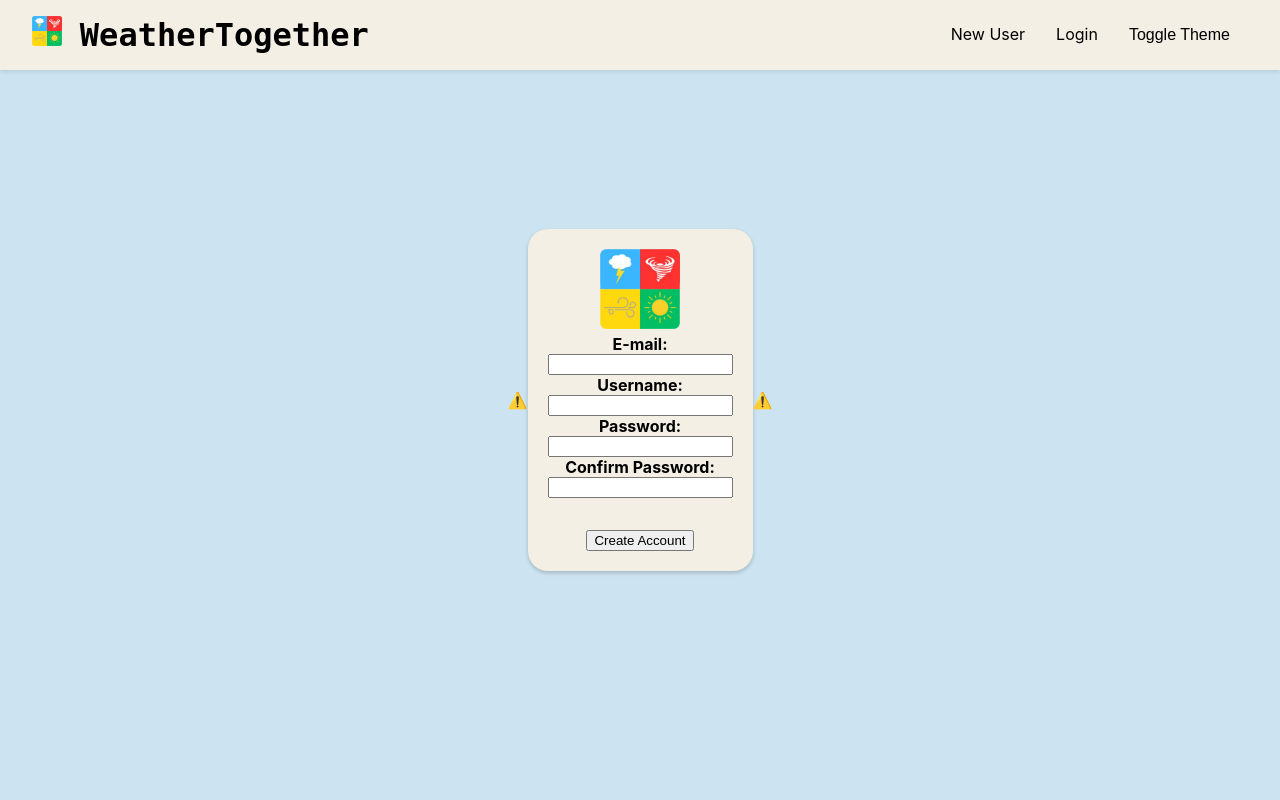
Test: Should allow New User creation with checks › Should fail creation if passwords do not match
Type "brendan@gmail.com" into the field with class "email" at (641, 365), box [548,354,733,375]
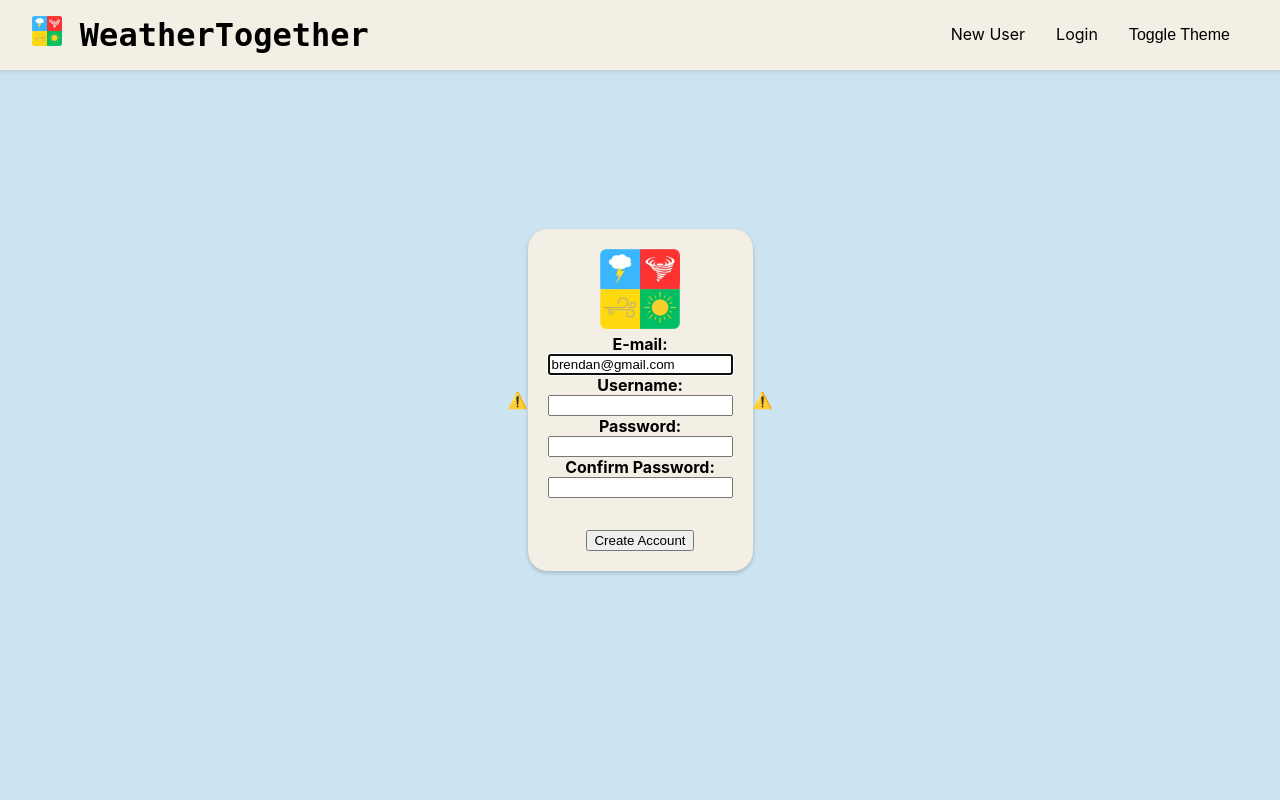
Type "fives" into the field with class "username" at (641, 406), box [548,395,733,416]
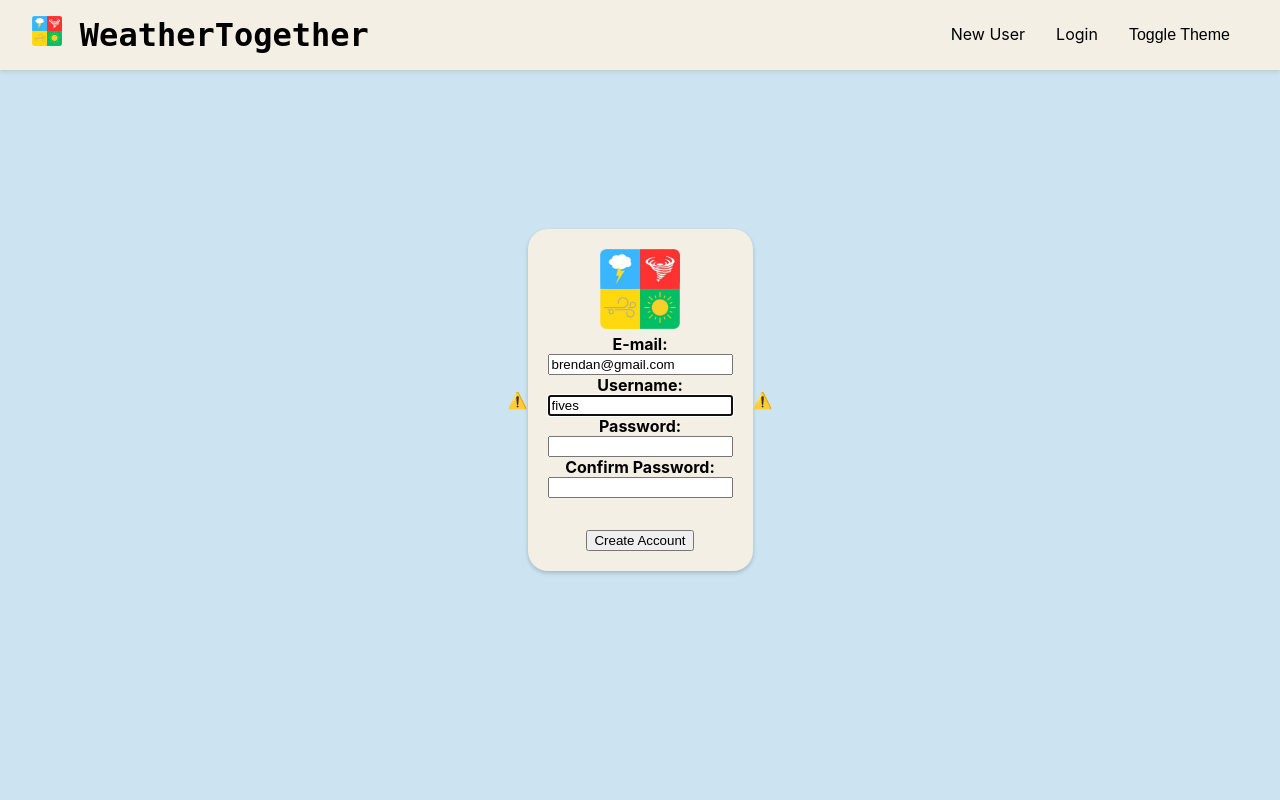
Type "pass" into the password field labelled "Password:" at (641, 447), box [548,436,733,457]
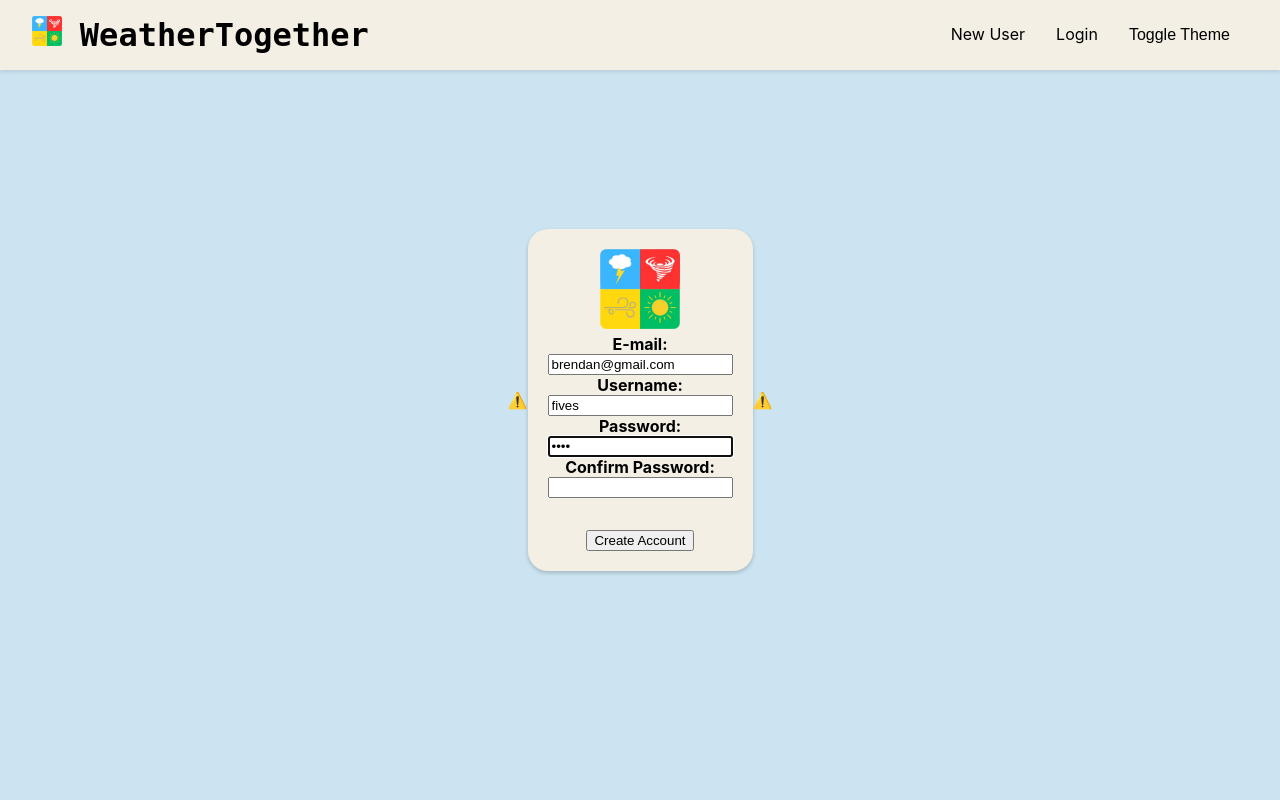
Type "word" into the password field with class "confirm-password" at (641, 488), box [548,477,733,498]
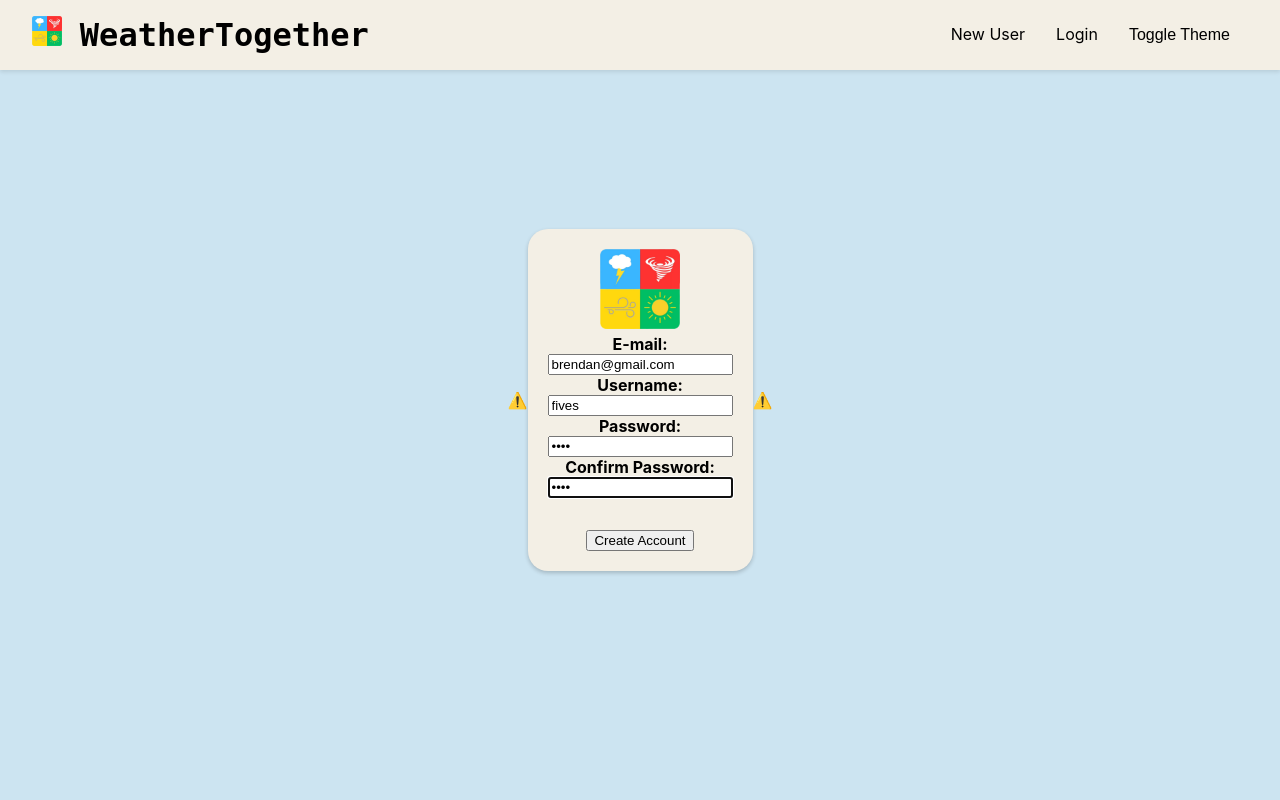
Click the button with class "create-account" at (640, 541), box [586,530,693,551]
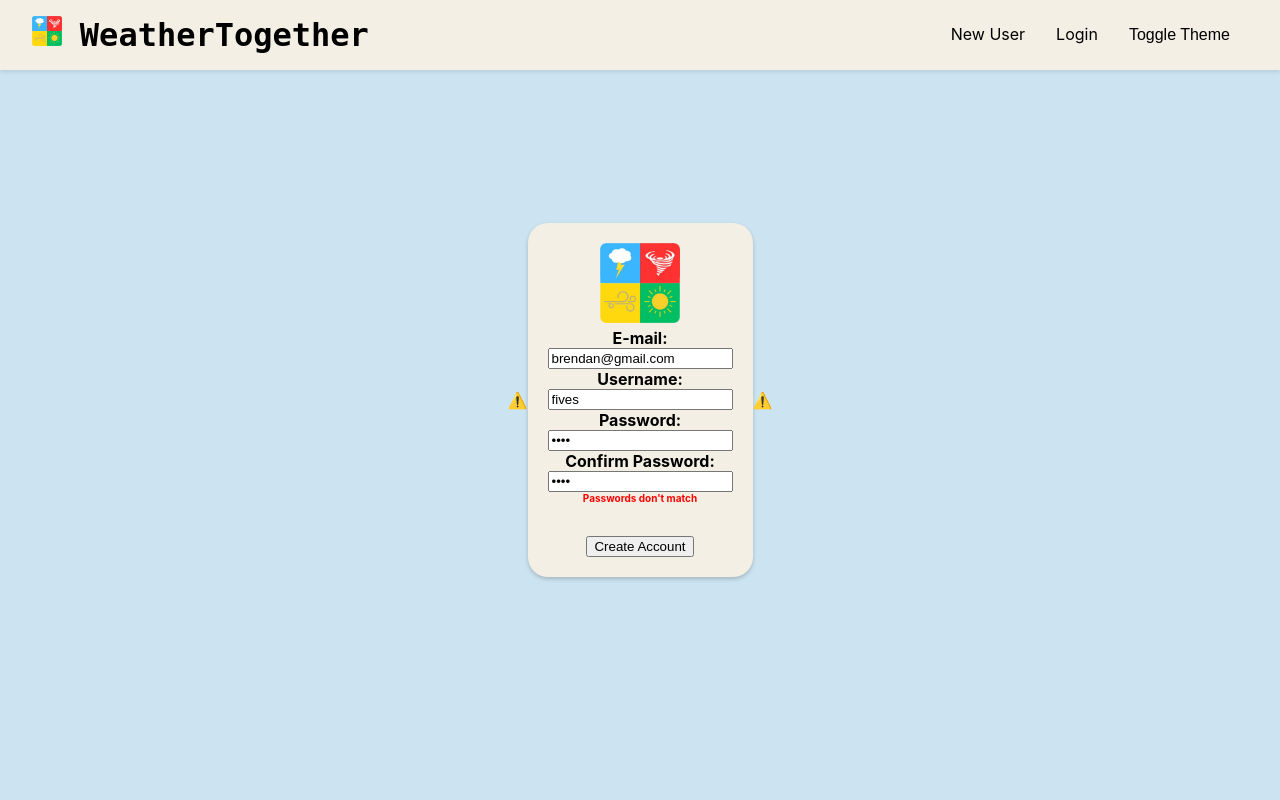
Result: the label "Passwords don't match" is shown at [583,492,697,504]
